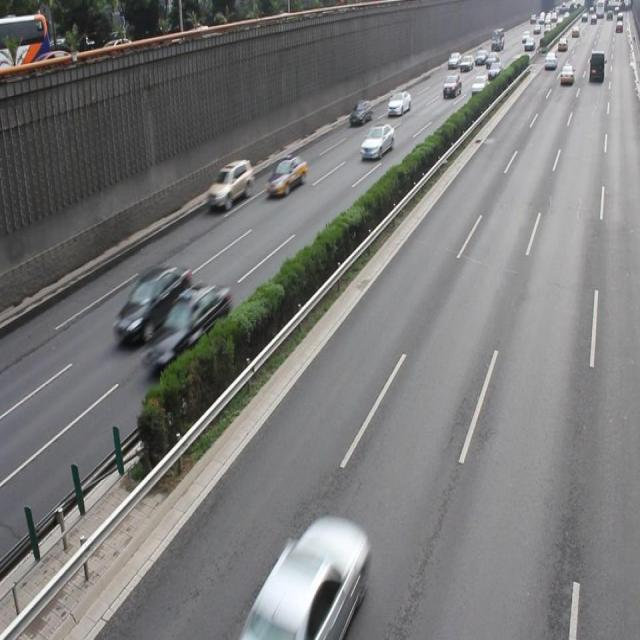car: (243, 512, 368, 640), (142, 282, 231, 367), (115, 266, 194, 344), (207, 158, 254, 210), (264, 154, 307, 194), (358, 123, 394, 159)
